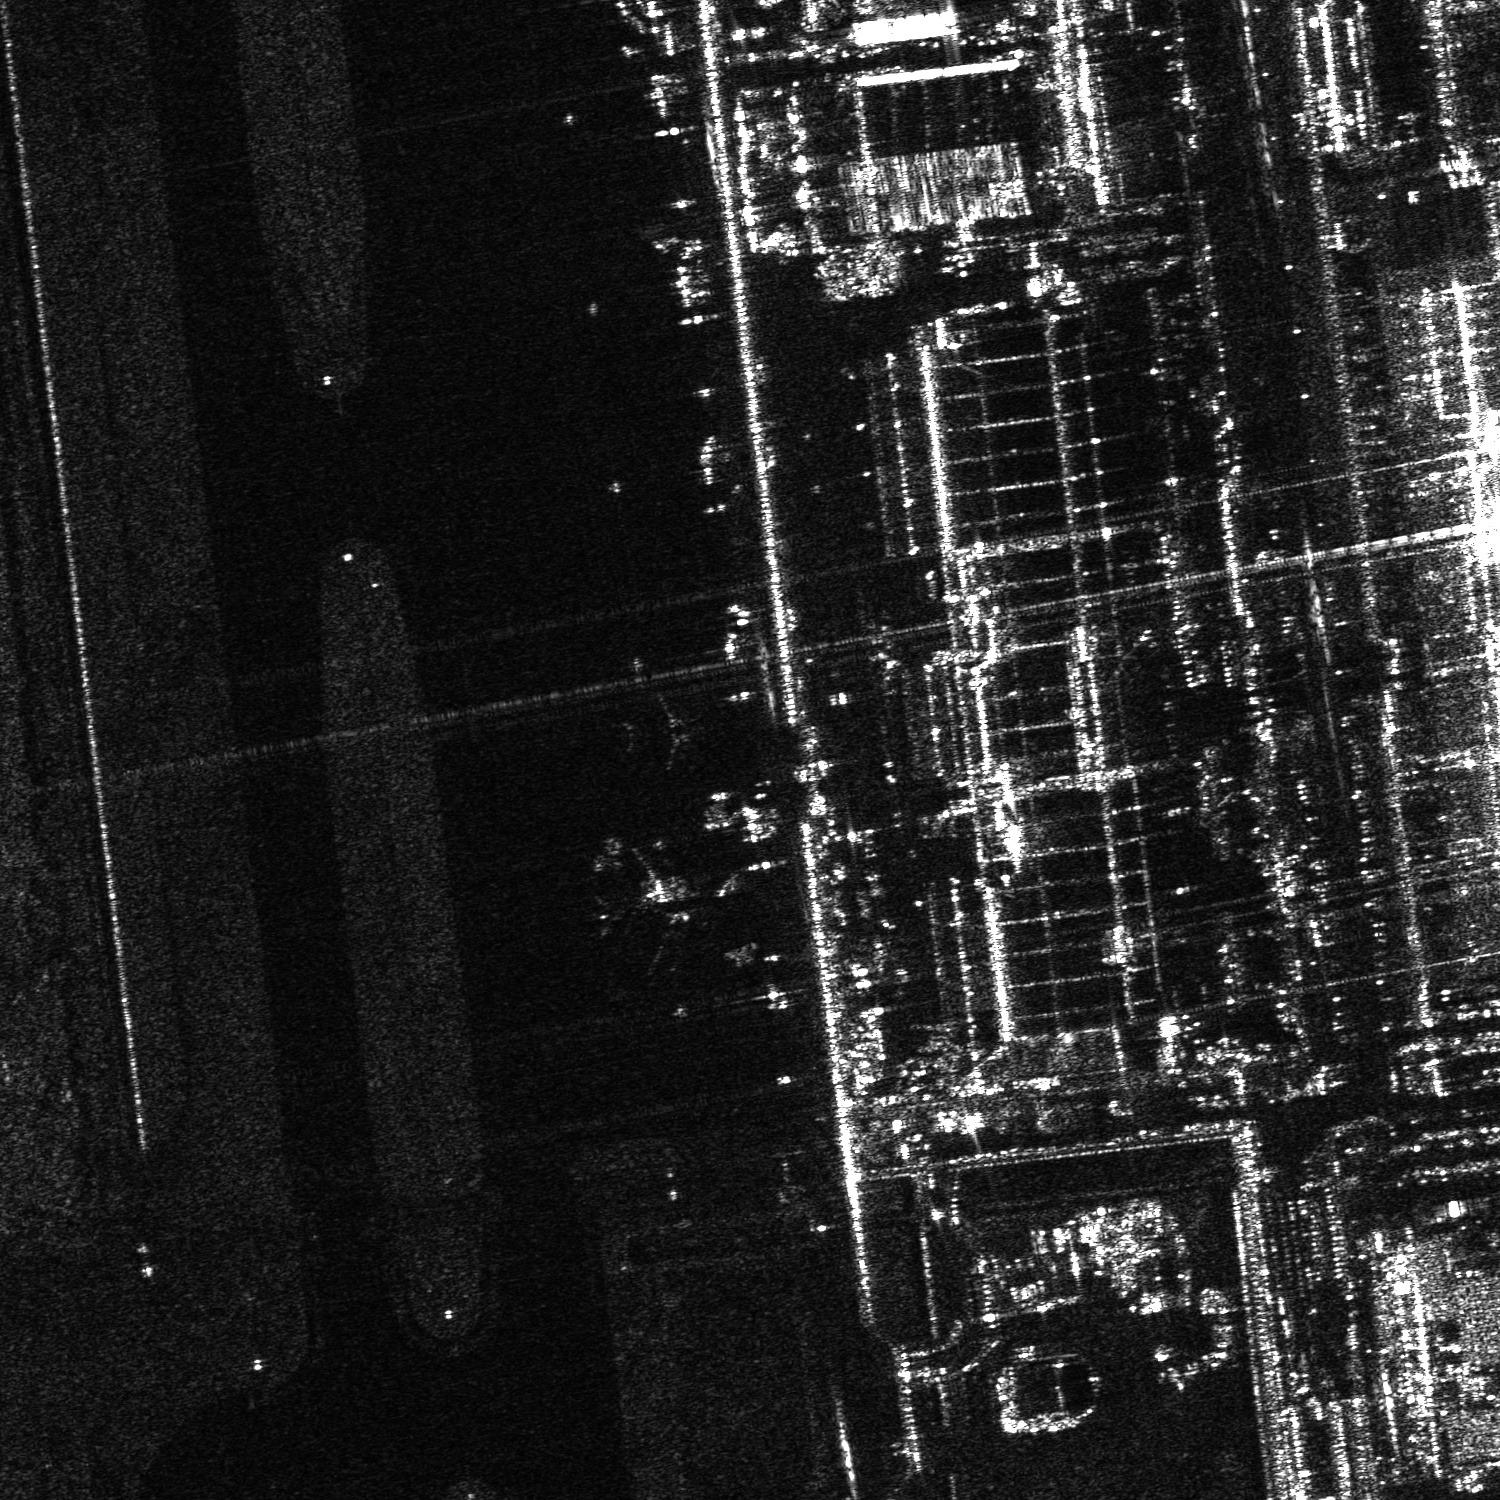Boeing787: (578, 848, 718, 982), (610, 681, 714, 782)
